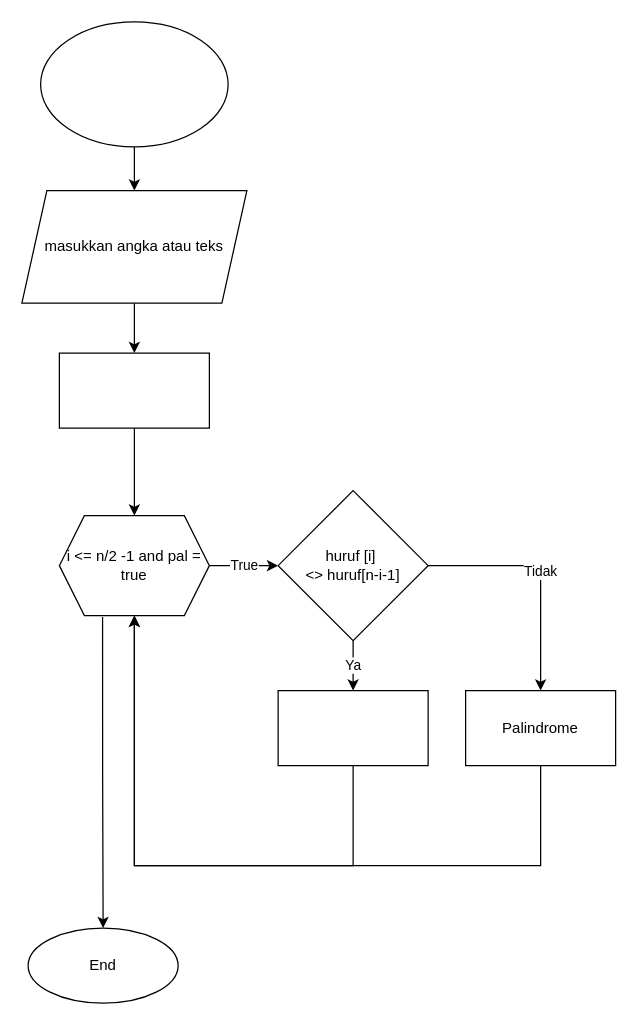
Image size: 638x1025. Some labels were removed from this diagram. The centre of each missing label's shape, as x and y in pixels:
membaca panjang huruf = n: [133,390]
palindrome = false: [352,727]
Start: [133,84]
